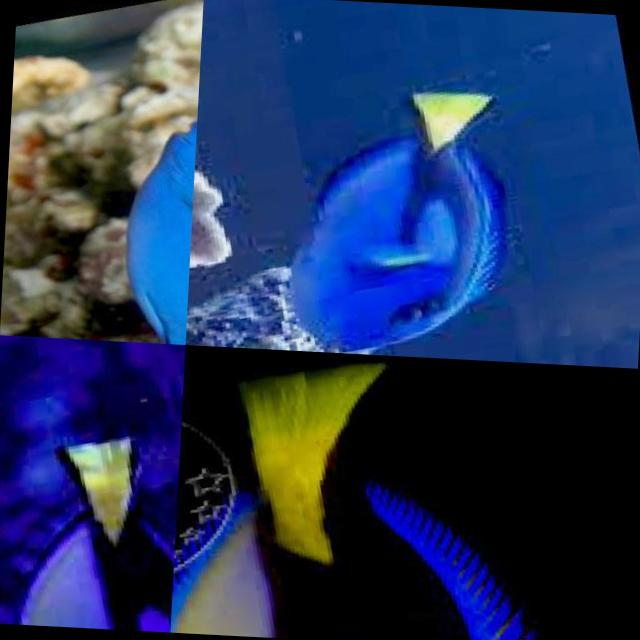BlueTang: (169, 345, 637, 640), (210, 39, 596, 366), (0, 14, 201, 345), (0, 394, 181, 632)
